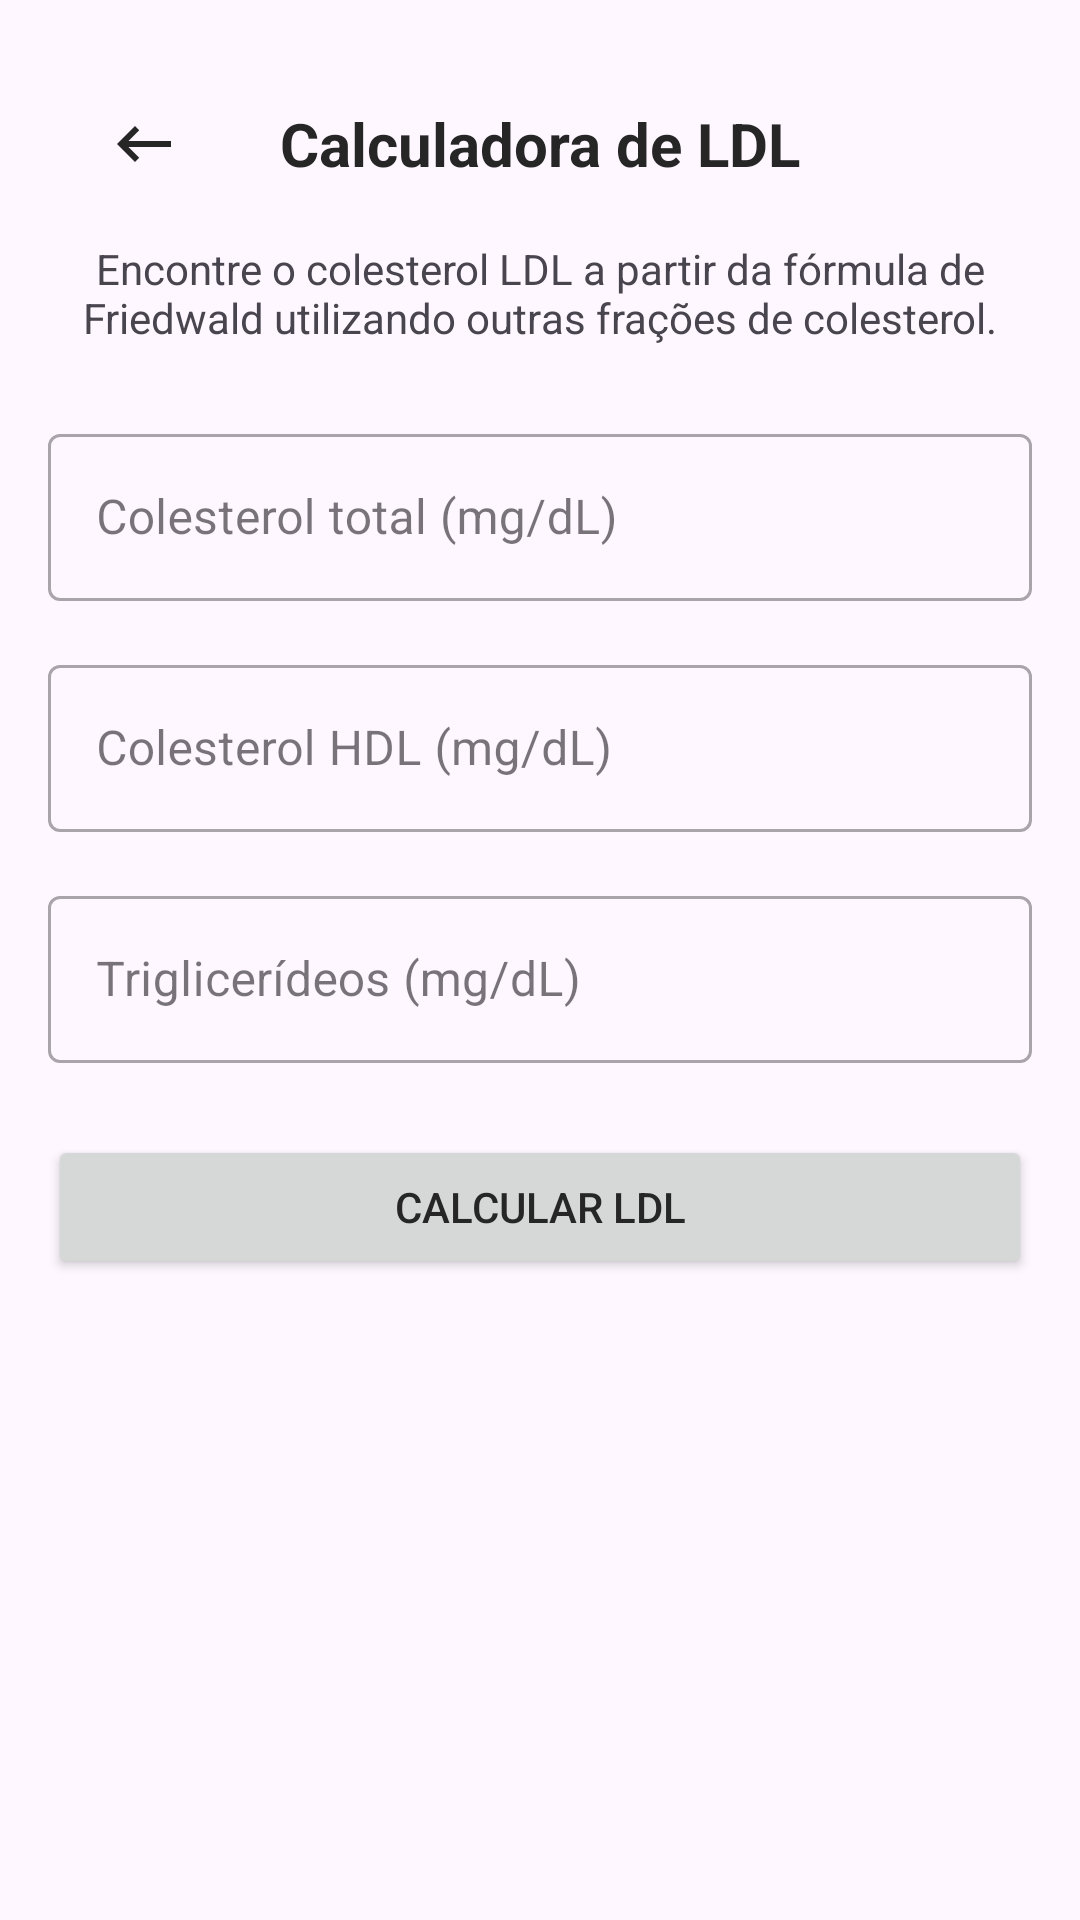

Icons on this 1080px×1920px Android screen, each with its box as (x1, y1, x2, y2):
Voltar: (117, 126, 171, 162)
